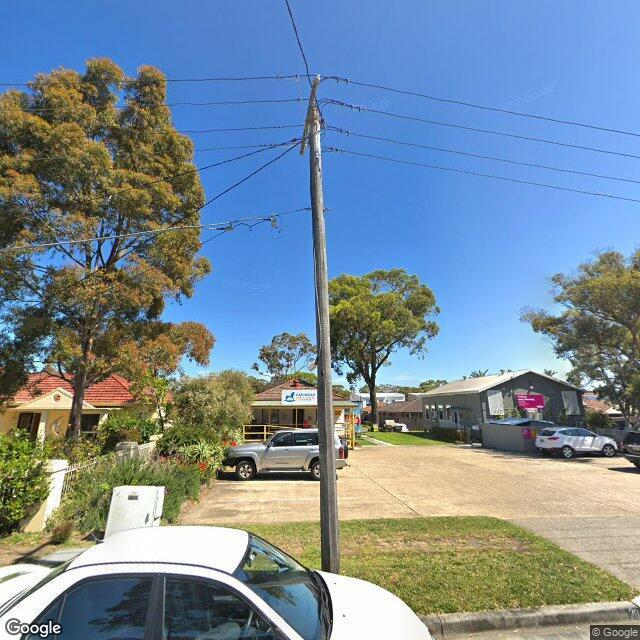crossarm: (300, 76, 322, 156)
timber-pole: (308, 106, 341, 574)
